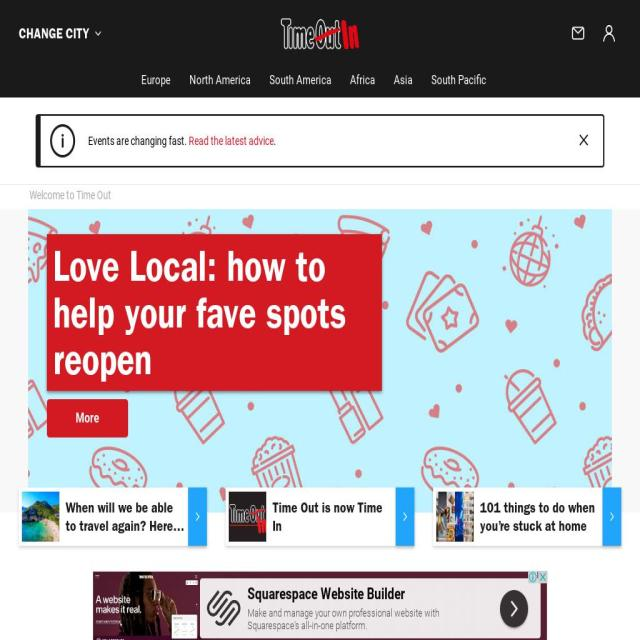button: (0, 209, 640, 513), (47, 234, 382, 391), (47, 399, 128, 438), (262, 58, 338, 98), (182, 58, 257, 98), (424, 58, 494, 98), (280, 18, 360, 49), (134, 58, 177, 98), (343, 58, 381, 98), (387, 58, 419, 98), (596, 17, 622, 50), (566, 18, 590, 48), (574, 128, 594, 154)
heading: (53, 242, 376, 382)
iframe: (92, 571, 548, 640)
image: (28, 209, 612, 513), (229, 492, 267, 542), (436, 492, 474, 542), (22, 492, 59, 542), (50, 124, 76, 158), (398, 508, 411, 525), (605, 508, 618, 525), (603, 25, 615, 42), (192, 508, 204, 525), (92, 26, 104, 41), (572, 27, 584, 40)
link: (188, 134, 274, 148)
text: (66, 498, 186, 535), (272, 498, 392, 535), (480, 498, 600, 535), (19, 22, 89, 45), (88, 134, 189, 148), (30, 188, 114, 202), (274, 134, 276, 148)
